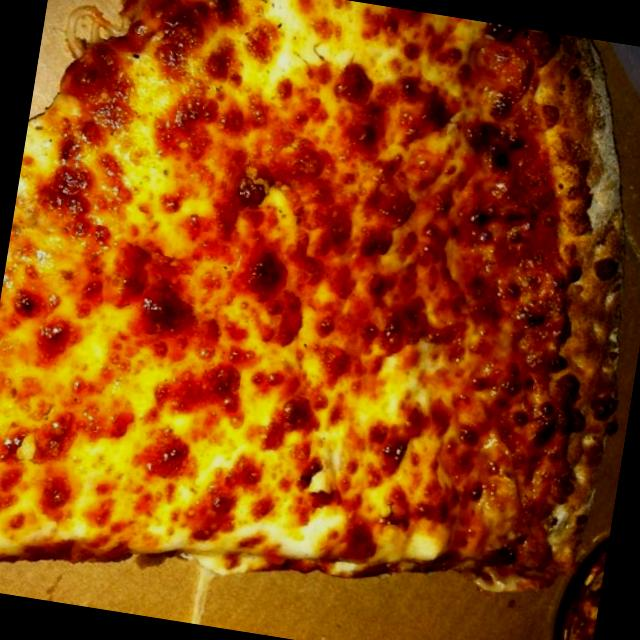pizza: (0, 0, 621, 589)
